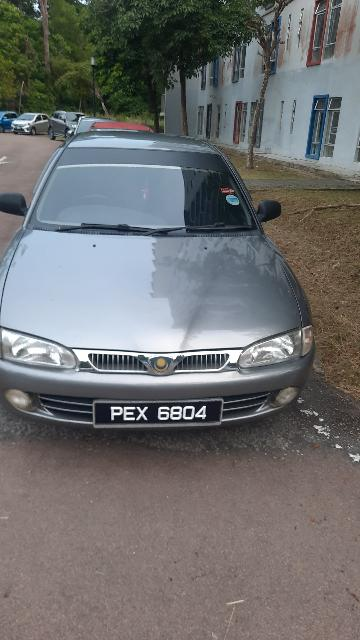License_Plate: (88, 393, 226, 431)
car: (2, 118, 319, 438)
